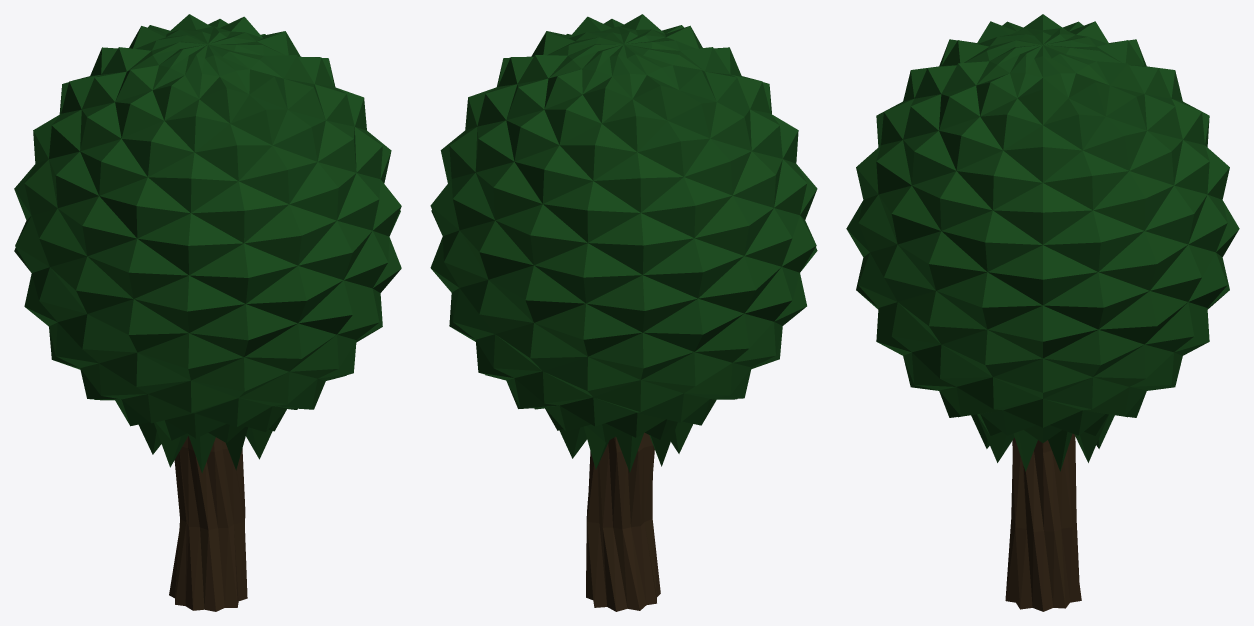
The model's file is NormalTree_Green.fbx.
3 renders of one model, left to right at view 1: azimuth 30°, elevation 25°; view 2: azimuth 150°, elevation 25°; view 3: azimuth 270°, elevation 25°, orthographic.
Visible parts, largest first — view 1: pSphere1, pCylinder1; view 2: pSphere1, pCylinder1; view 3: pSphere1, pCylinder1.
Boxes of the visible parts, bbox=[...] form: pSphere1: bbox=[14, 14, 401, 473]; pCylinder1: bbox=[169, 436, 247, 611]; pSphere1: bbox=[430, 14, 817, 472]; pCylinder1: bbox=[586, 432, 660, 611]; pSphere1: bbox=[846, 14, 1239, 471]; pCylinder1: bbox=[1005, 433, 1081, 611].
Bounding box in the file's own units: 11.59 × 18.17 × 11.73.
